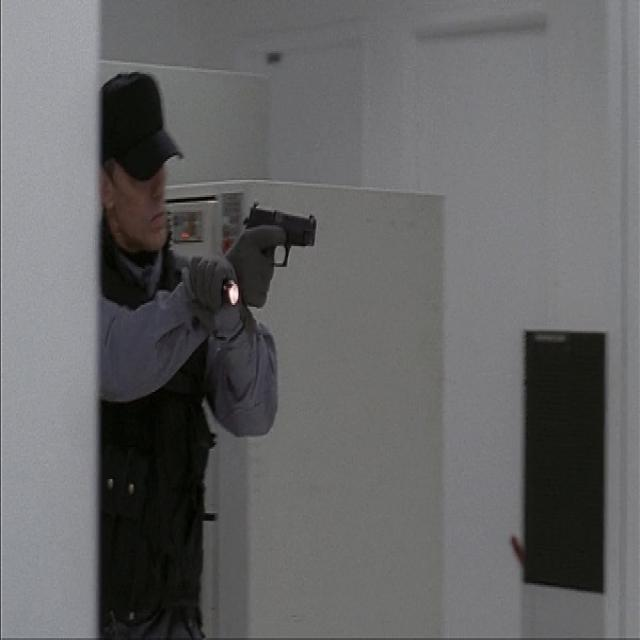weapons: (230, 188, 326, 322)
